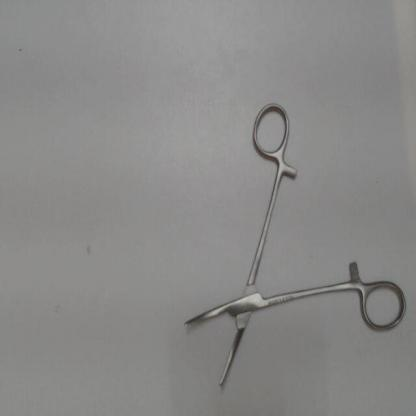Crile Artery Forceps: (177, 94, 410, 396)
